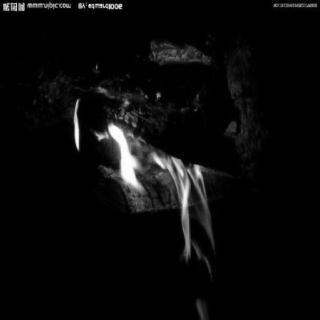Fire: (108, 118, 146, 192)
